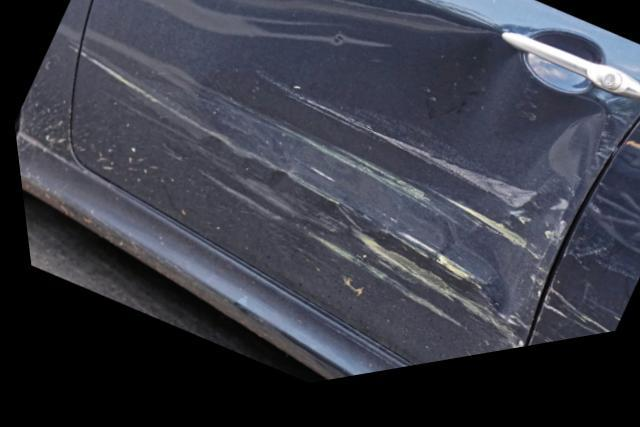dent: (365, 47, 601, 216)
rub: (77, 52, 572, 368), (519, 229, 640, 362)
scratch: (254, 76, 380, 155)
